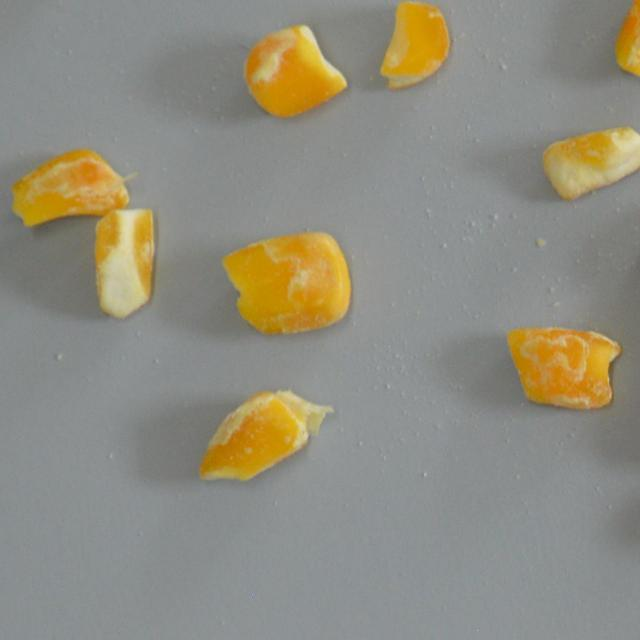pelicula: (220, 364, 314, 512), (238, 222, 342, 350), (506, 308, 622, 417), (243, 19, 347, 122), (8, 150, 129, 228), (92, 206, 158, 320), (377, 0, 452, 89), (564, 108, 626, 215), (607, 0, 640, 79)
